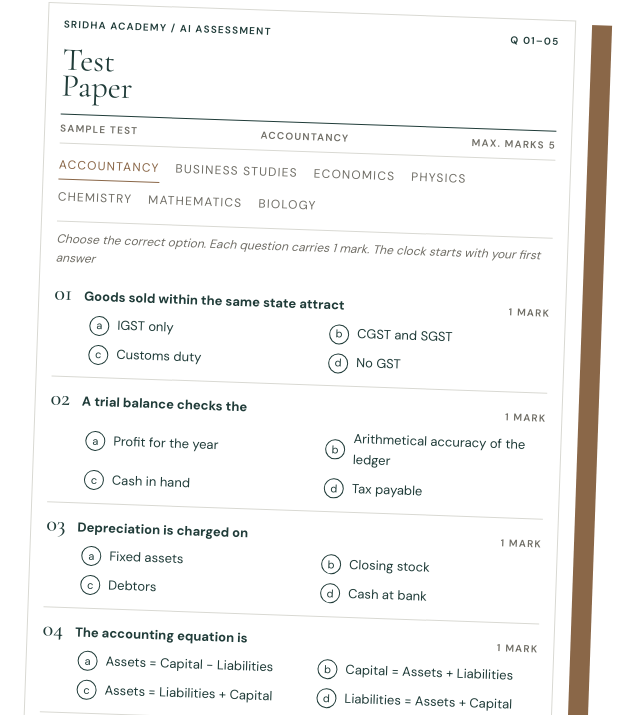
it: SampleTestPaper › switches to another subject paper with fresh answers
Click the radio button labelled "b CGST and SGST".
click(390, 335)  # box [328,324,452,346]
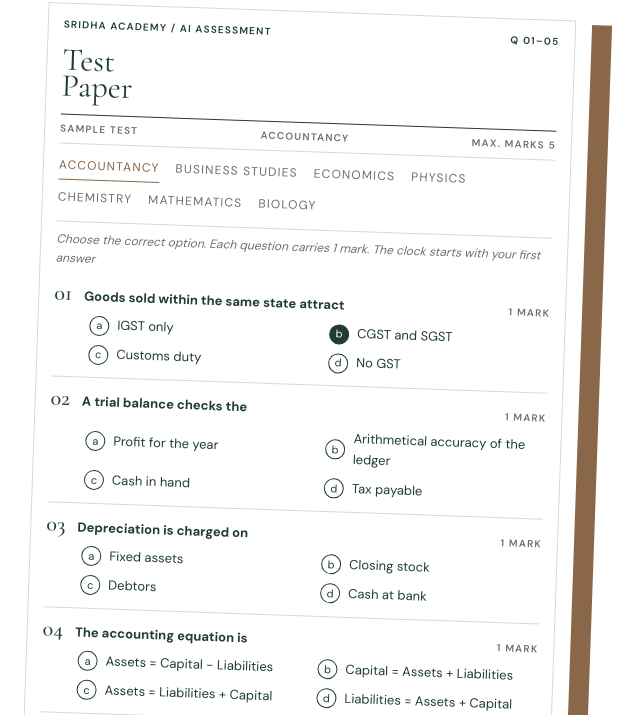
Click the button "Physics".
click(438, 179)  # box [410,164,466,194]
(page scrolled)
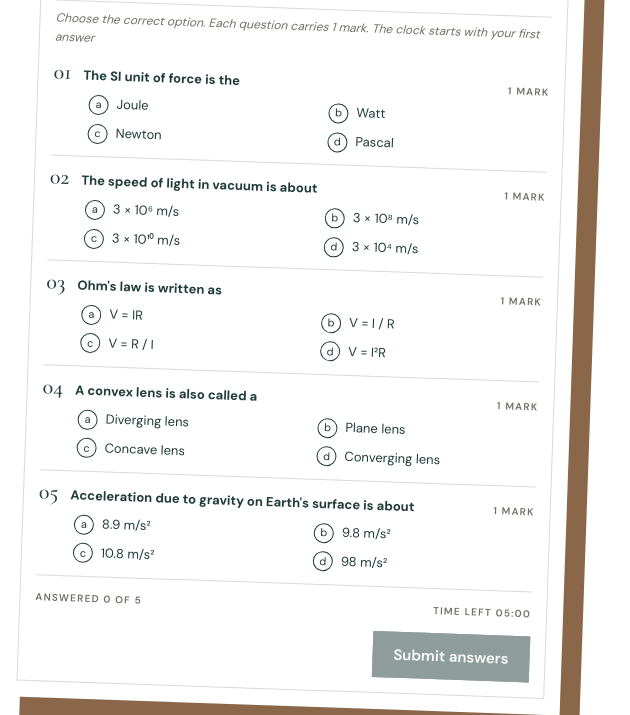
Expected: the element named "The SI unit of force is the" is shown, [87,94,393,152]
Expected: the text "Answered 0 of 5" is shown, [35,591,142,607]
